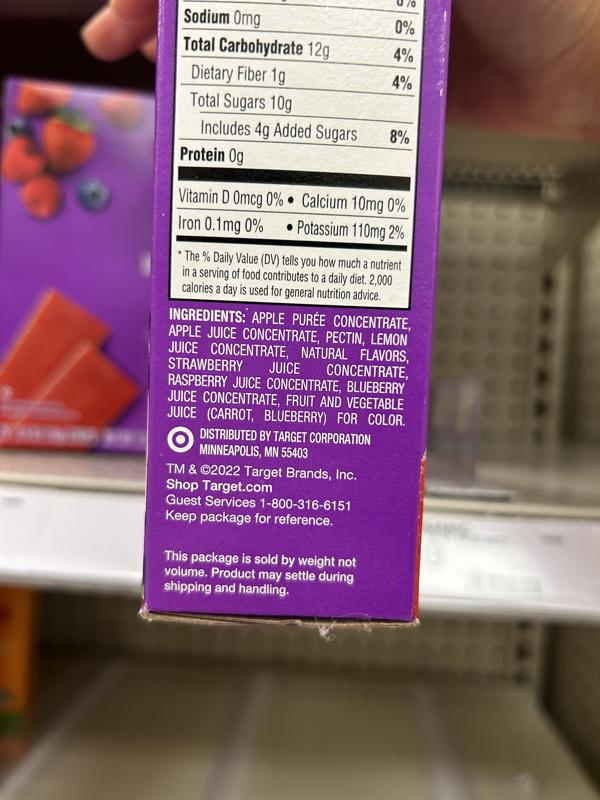ingredients: (163, 303, 412, 428)
